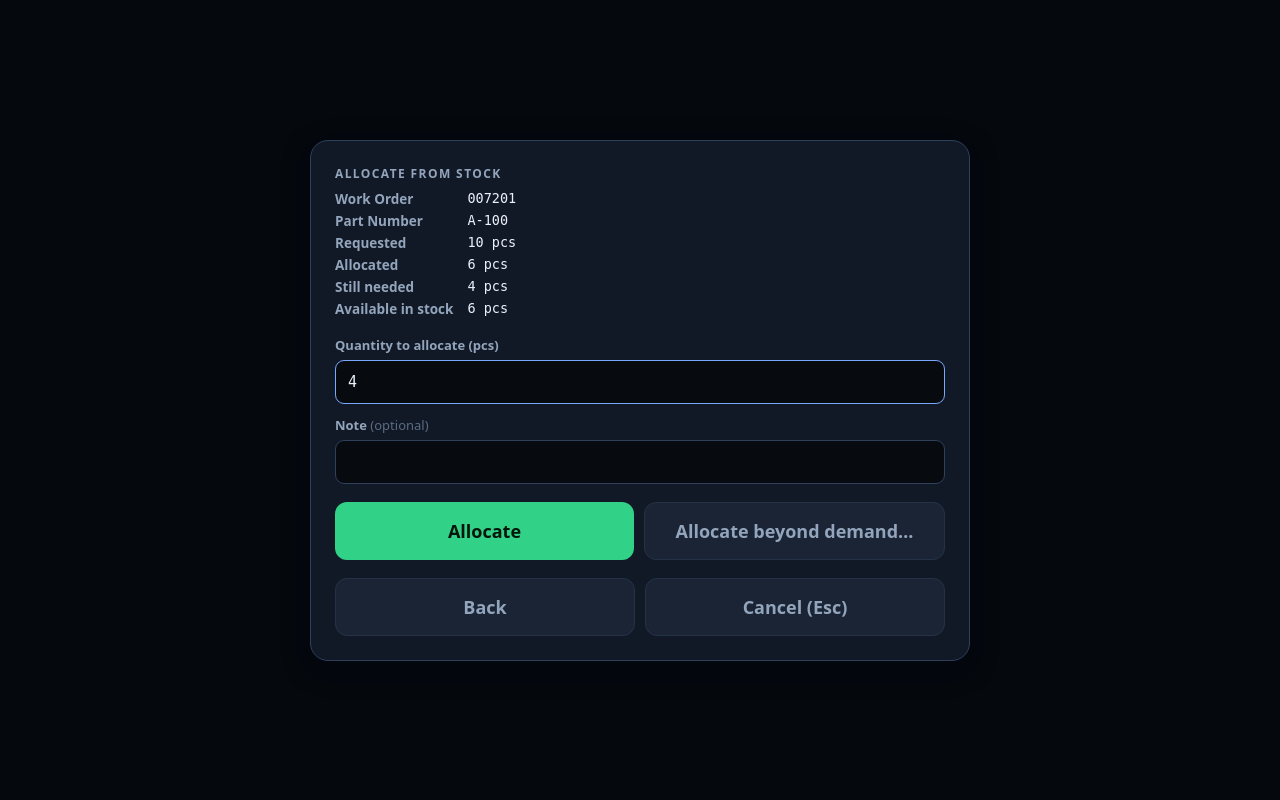
Test: FC-4: a correction must exceed the remaining demand
Expected: the field labelled "Quantity to allocate (pcs)" is shown, [335,360,945,404]
Click the button "Allocate beyond demand…". click: (794, 530)
box: [644,502,945,560]
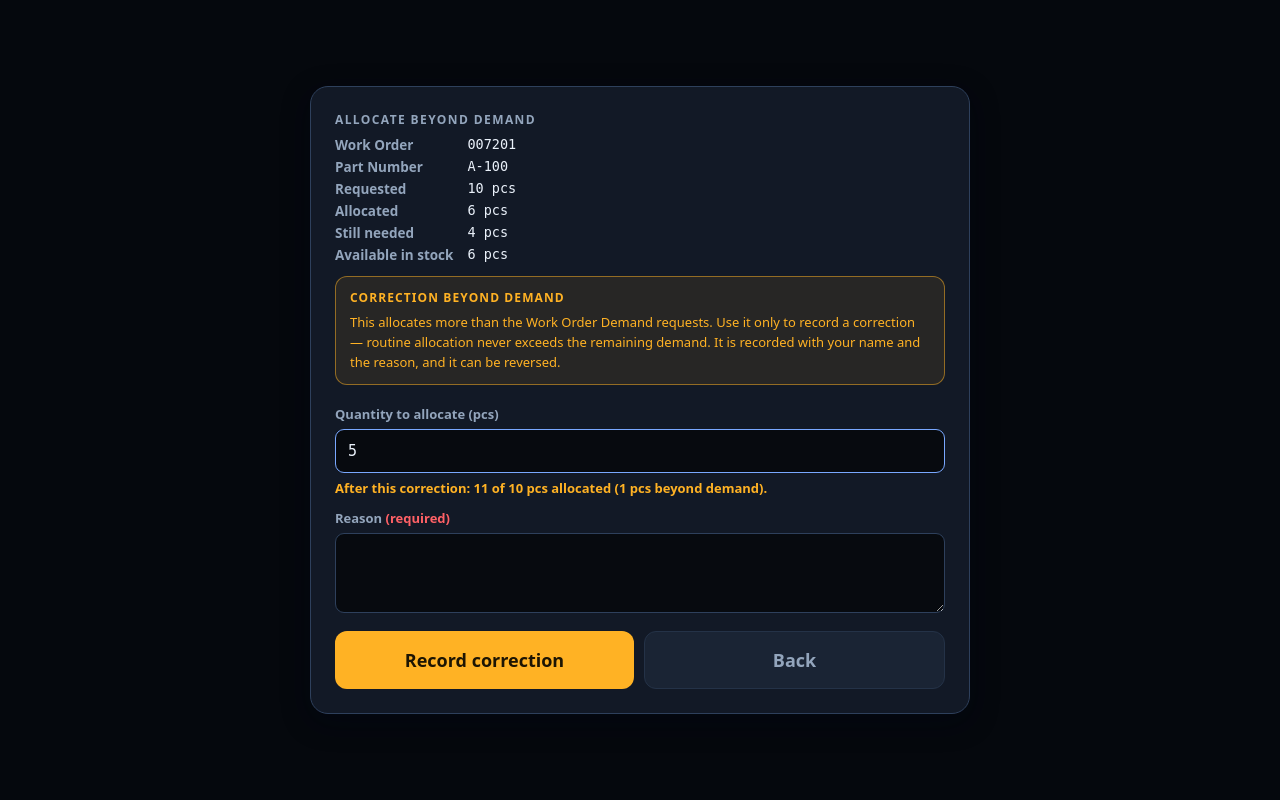
Result: the field labelled "Quantity to allocate (pcs)" holds "5"
Replace the text in the field labelled "Quantity to allocate (pcs)" with "4". click: (640, 451)
box: [335,429,945,473]
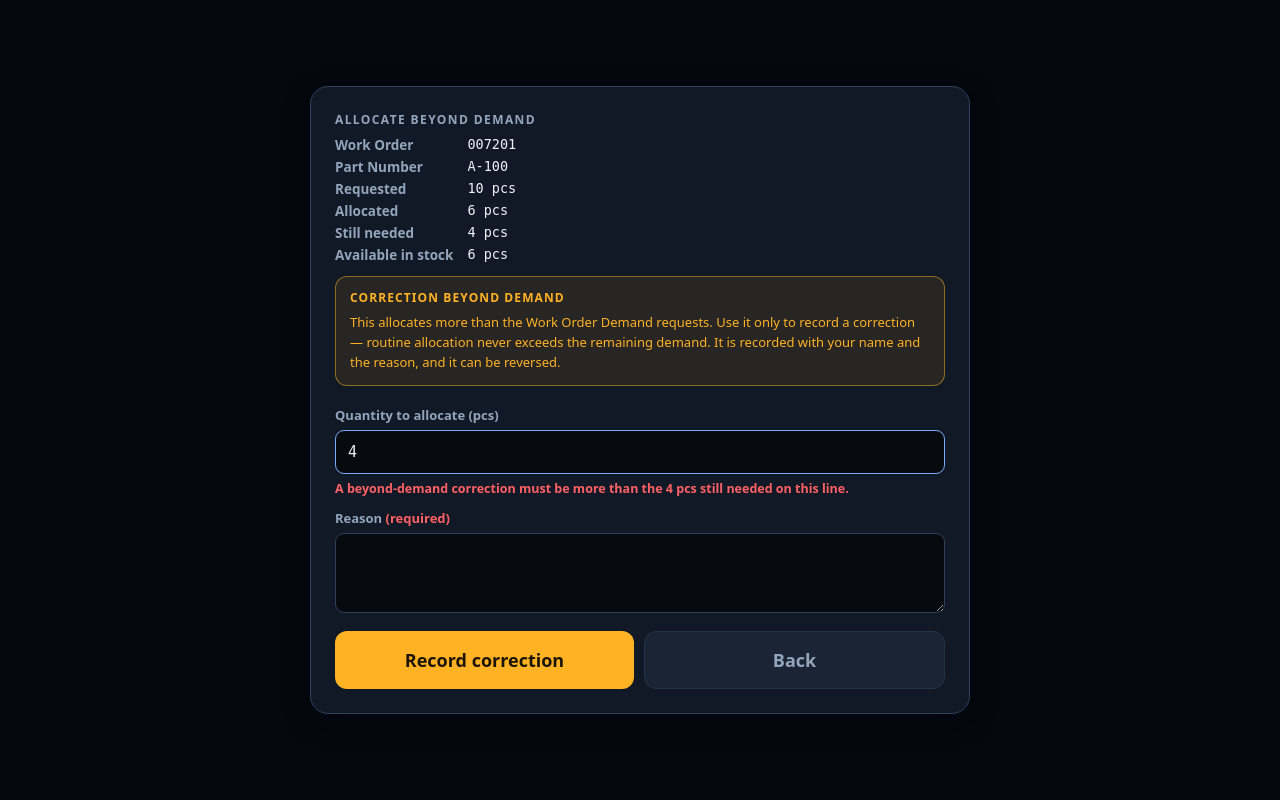
Result: the text "A beyond-demand correction must be more than the 4 pcs still needed on this line." is shown at [335,480,849,496]
Back returns to the Overview and its opener.
Click the button "Back". click: (794, 660)
box: [644,630,945,688]
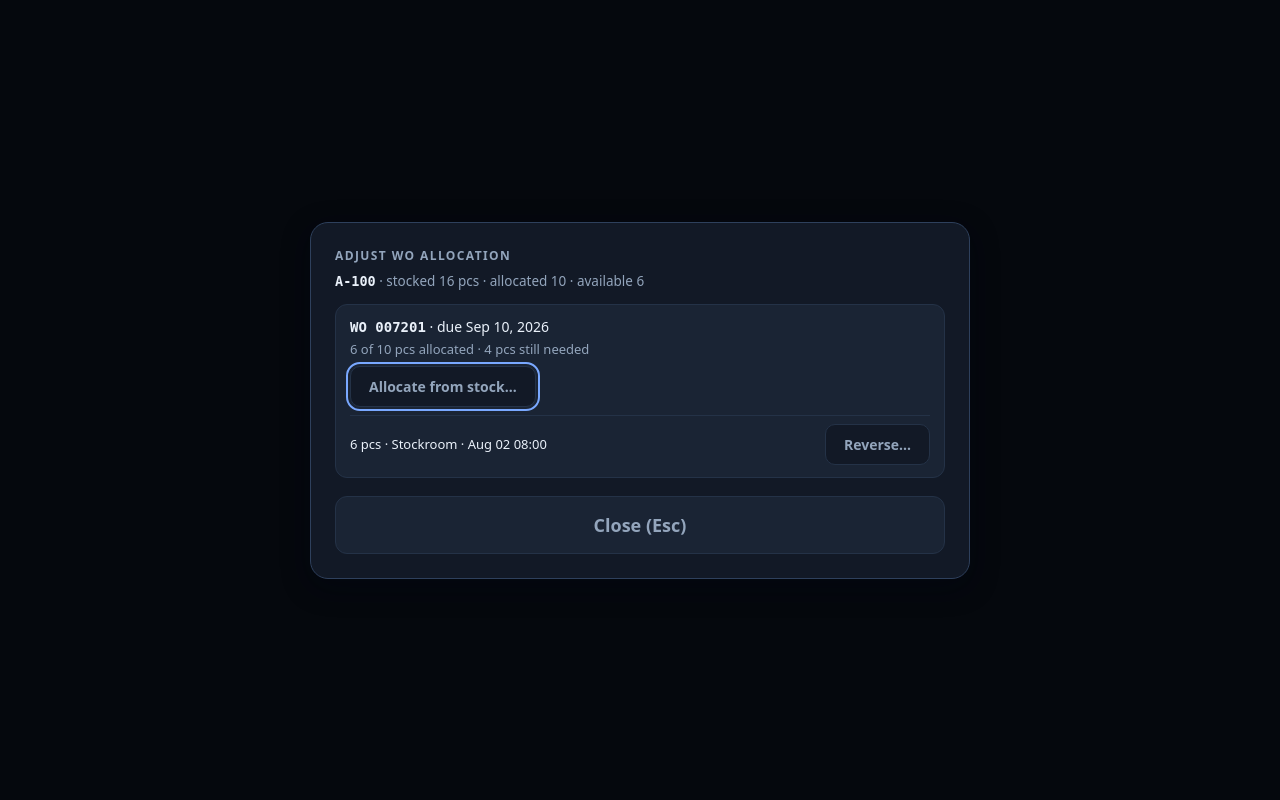
Result: the heading "Adjust WO Allocation" is shown at [335,246,511,264]
